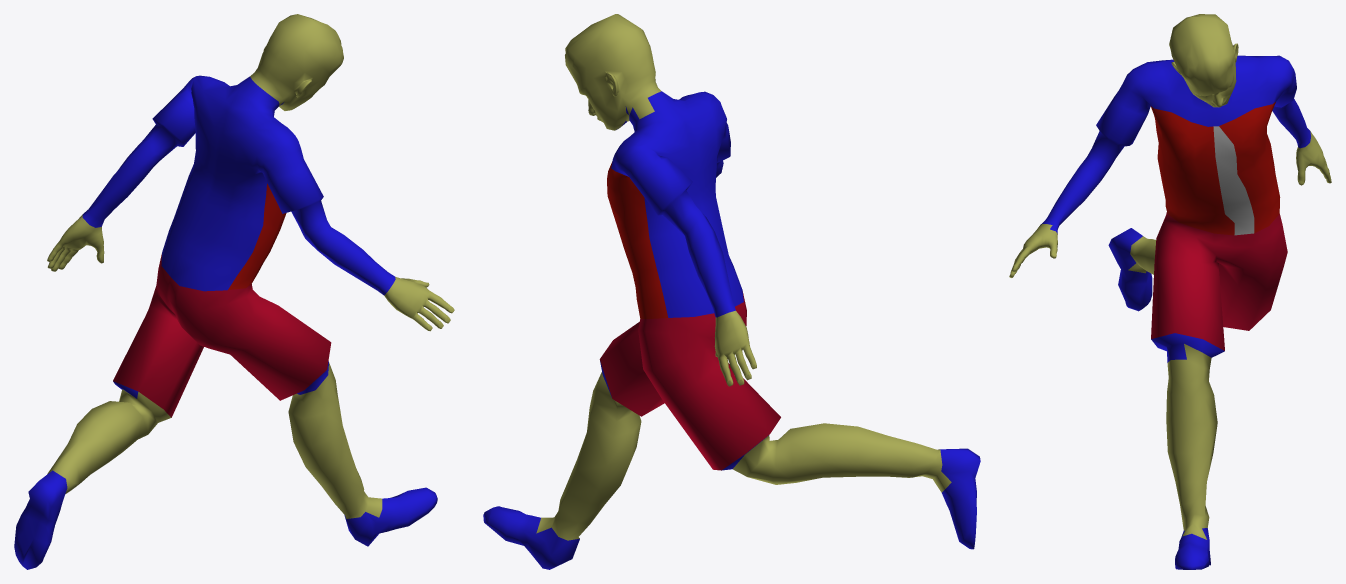
Rendered from player_000028.obj.
3 views of the same model, side by side, from view 1: azimuth 30°, elevation 25°; view 2: azimuth 150°, elevation 25°; view 3: azimuth 270°, elevation 25° (orthographic). The views are drawn at different scales.
Parts seen in each view (by area): view 1: soccerplayer_mesh; view 2: soccerplayer_mesh; view 3: soccerplayer_mesh.
Part boxes in pixels (x1,y1,x2,y2): soccerplayer_mesh: (14,14,454,569); soccerplayer_mesh: (483,14,980,569); soccerplayer_mesh: (1009,14,1331,569).
Size of the model in its own units: 4.12 by 4.76 by 2.66.
